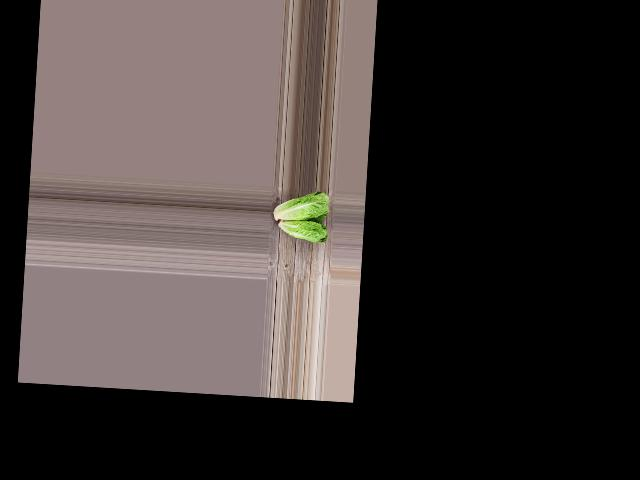lettuce: (270, 187, 331, 223)
